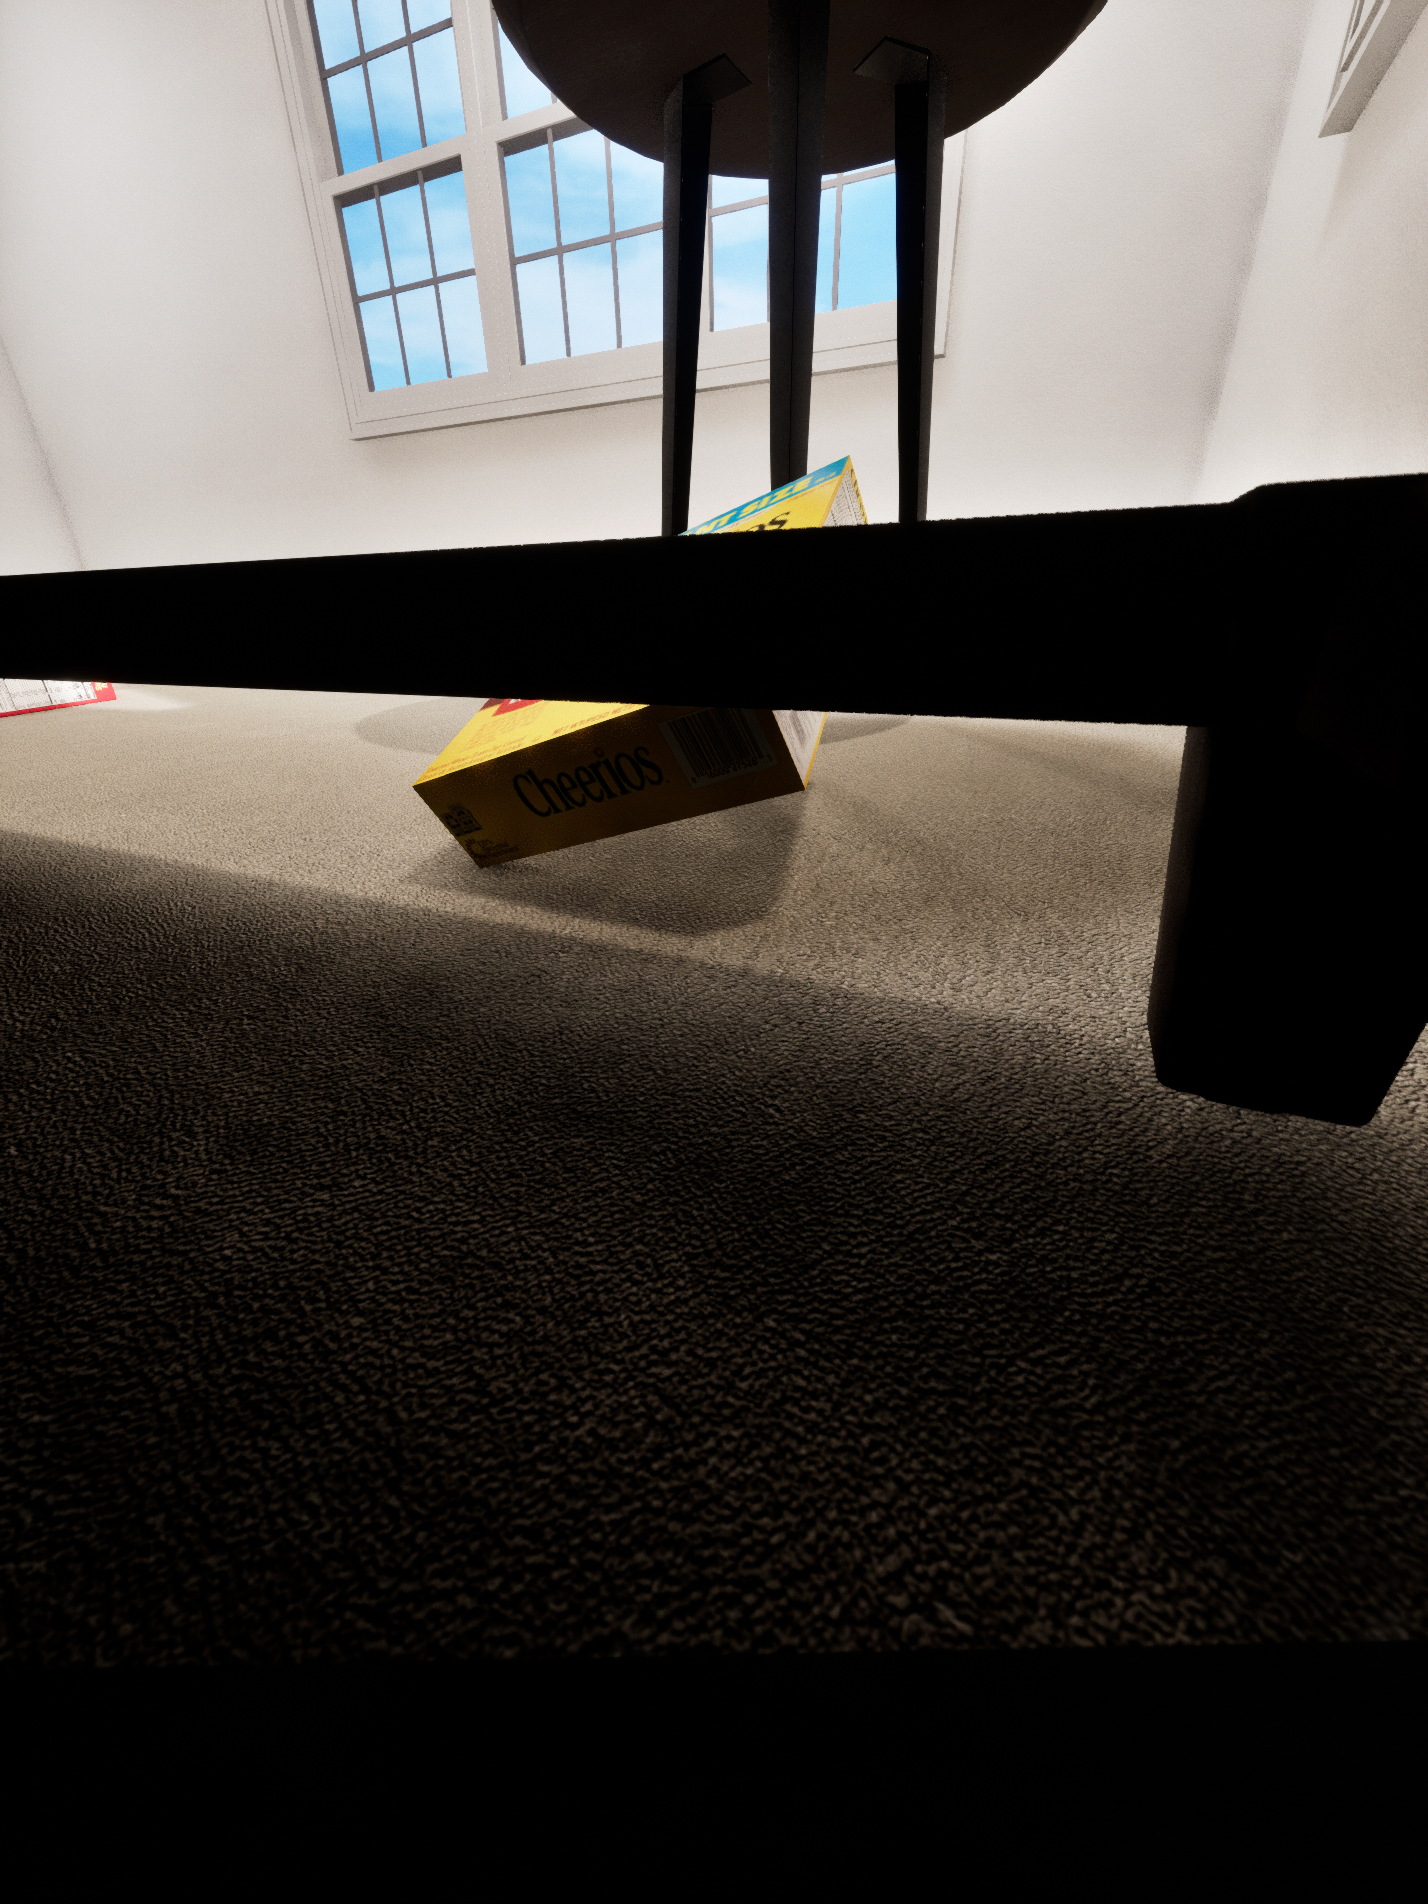cheerios: (412, 454, 868, 868)
